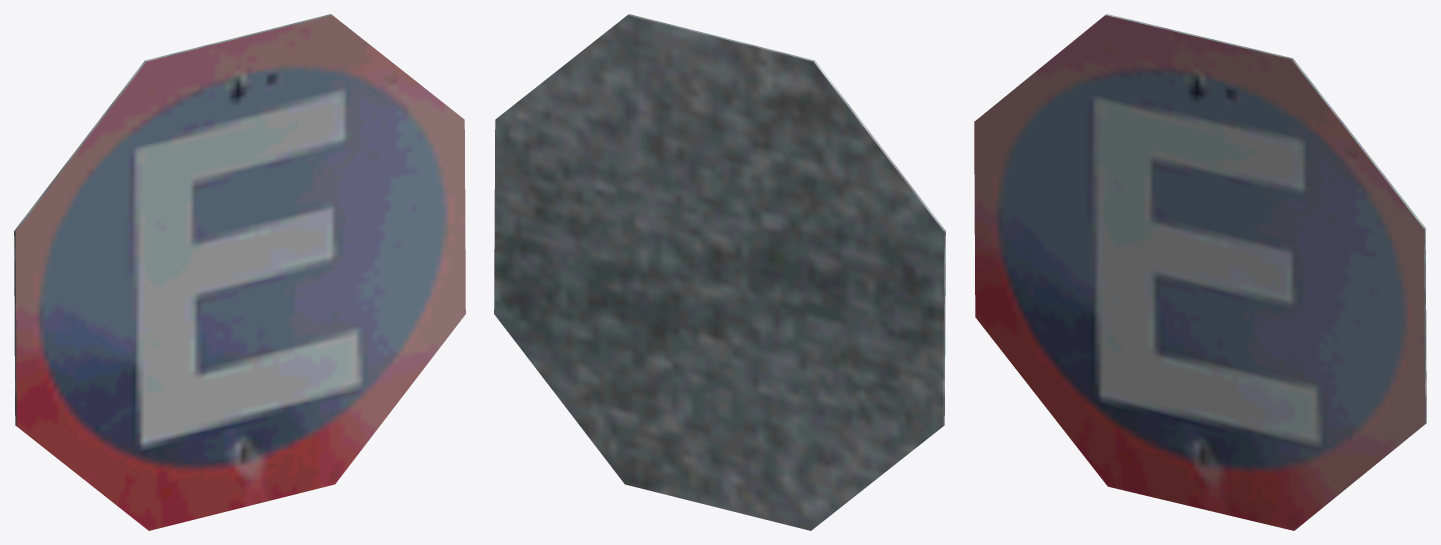
File: estacionamiento exclusivo.fbx
3 renders of one model, left to right at view 1: azimuth 30°, elevation 25°; view 2: azimuth 150°, elevation 25°; view 3: azimuth 330°, elevation 25°, orthographic.
Visible parts, largest first — view 1: Cylinder.003; view 2: Cylinder.003; view 3: Cylinder.003.
Part boxes in pixels (box(x1,y1,x2,y2)): Cylinder.003: box(14, 14, 465, 530); Cylinder.003: box(494, 14, 945, 530); Cylinder.003: box(974, 14, 1426, 530).
Bounding box in the file's own units: 1.69 × 1.69 × 0.01.
